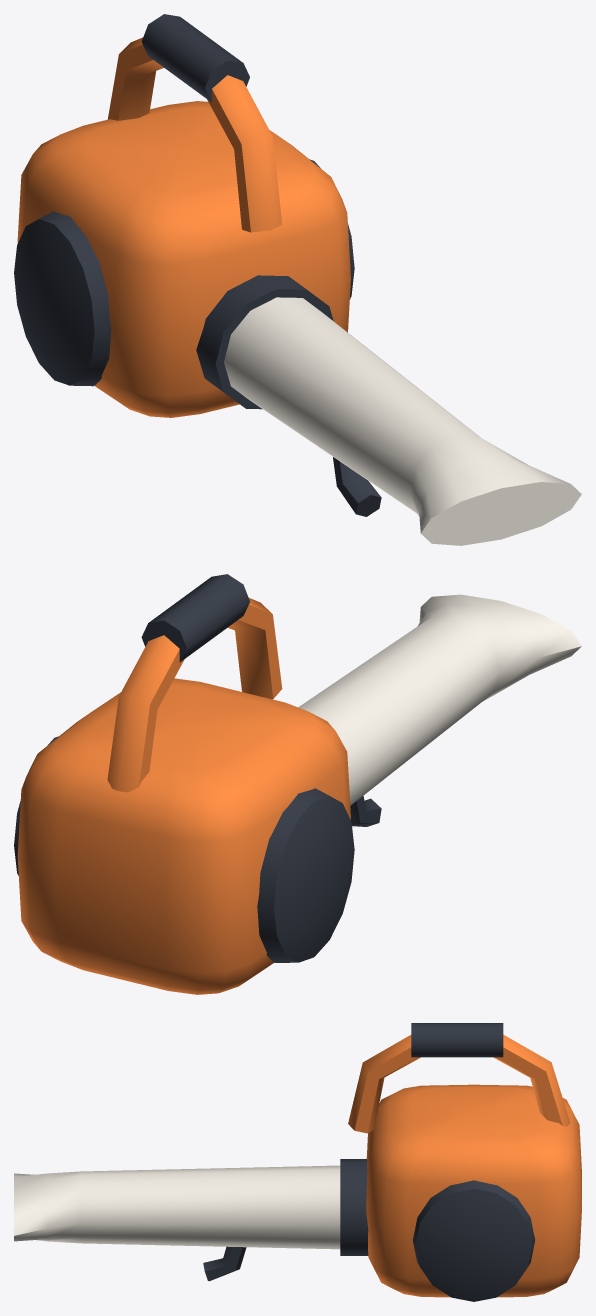
The model's file is LeafBlower.fbx.
The picture shows the model from 3 angles, top to bottom: view 1: azimuth 30°, elevation 25°; view 2: azimuth 150°, elevation 25°; view 3: azimuth 270°, elevation 25°; orthographic projection. The views are drawn at different scales.
Parts seen in each view (by area): view 1: LeafBlower; view 2: LeafBlower; view 3: LeafBlower.
Boxes of the visible parts, x1,y1,x2,y2 form: LeafBlower: (14, 14, 581, 545); LeafBlower: (14, 574, 581, 994); LeafBlower: (14, 1023, 581, 1301).
Bounding box in the file's own units: 0.25 × 0.3 × 0.6.
